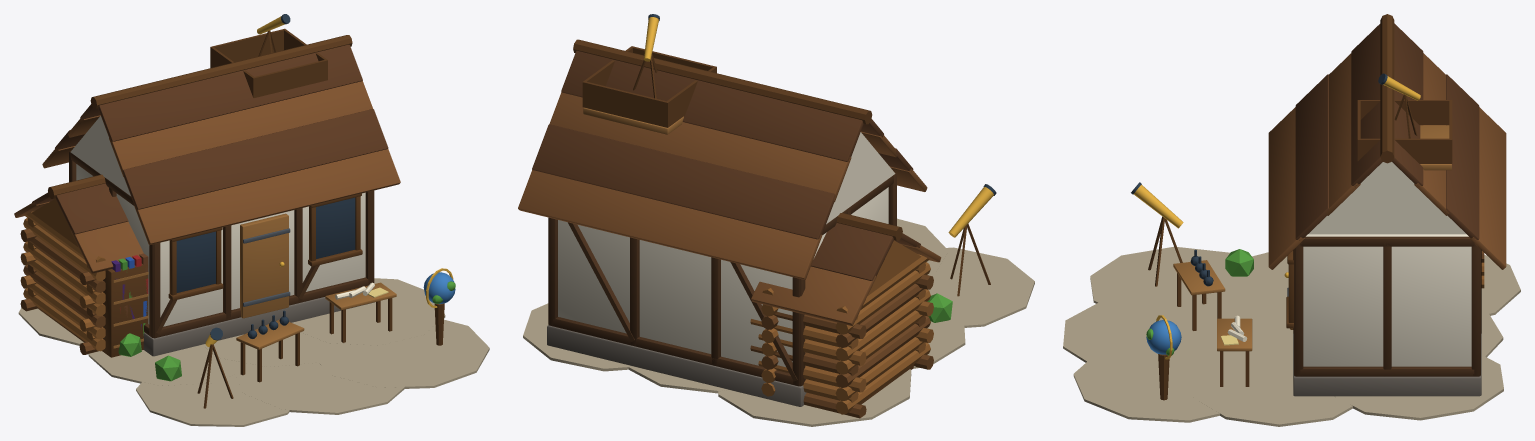
File: akademia_poz09.glb
The picture shows the model from 3 angles, left to right: view 1: azimuth 30°, elevation 25°; view 2: azimuth 150°, elevation 25°; view 3: azimuth 270°, elevation 25°; orthographic projection. The views are drawn at different scales.
Visible parts, largest first — view 1: akademia_poz09; view 2: akademia_poz09; view 3: akademia_poz09.
Part boxes in pixels (left/top/right/bottom): akademia_poz09: left=14, top=14, right=489, bottom=426; akademia_poz09: left=518, top=14, right=1034, bottom=426; akademia_poz09: left=1063, top=14, right=1520, bottom=426.
Size of the model in its own units: 7.26 by 5.7 by 7.78.
